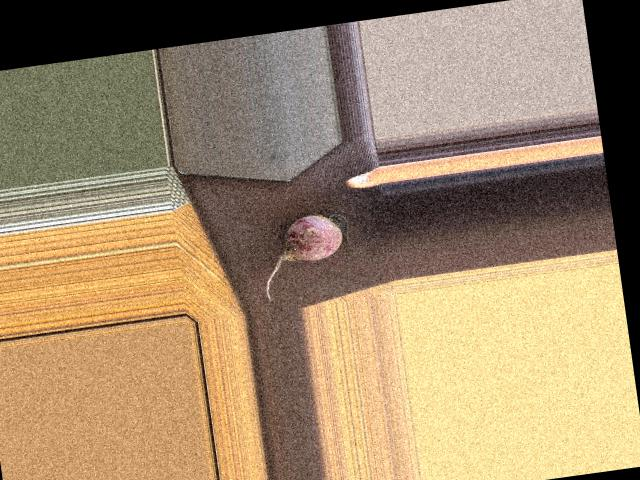beet: (256, 209, 364, 300)
